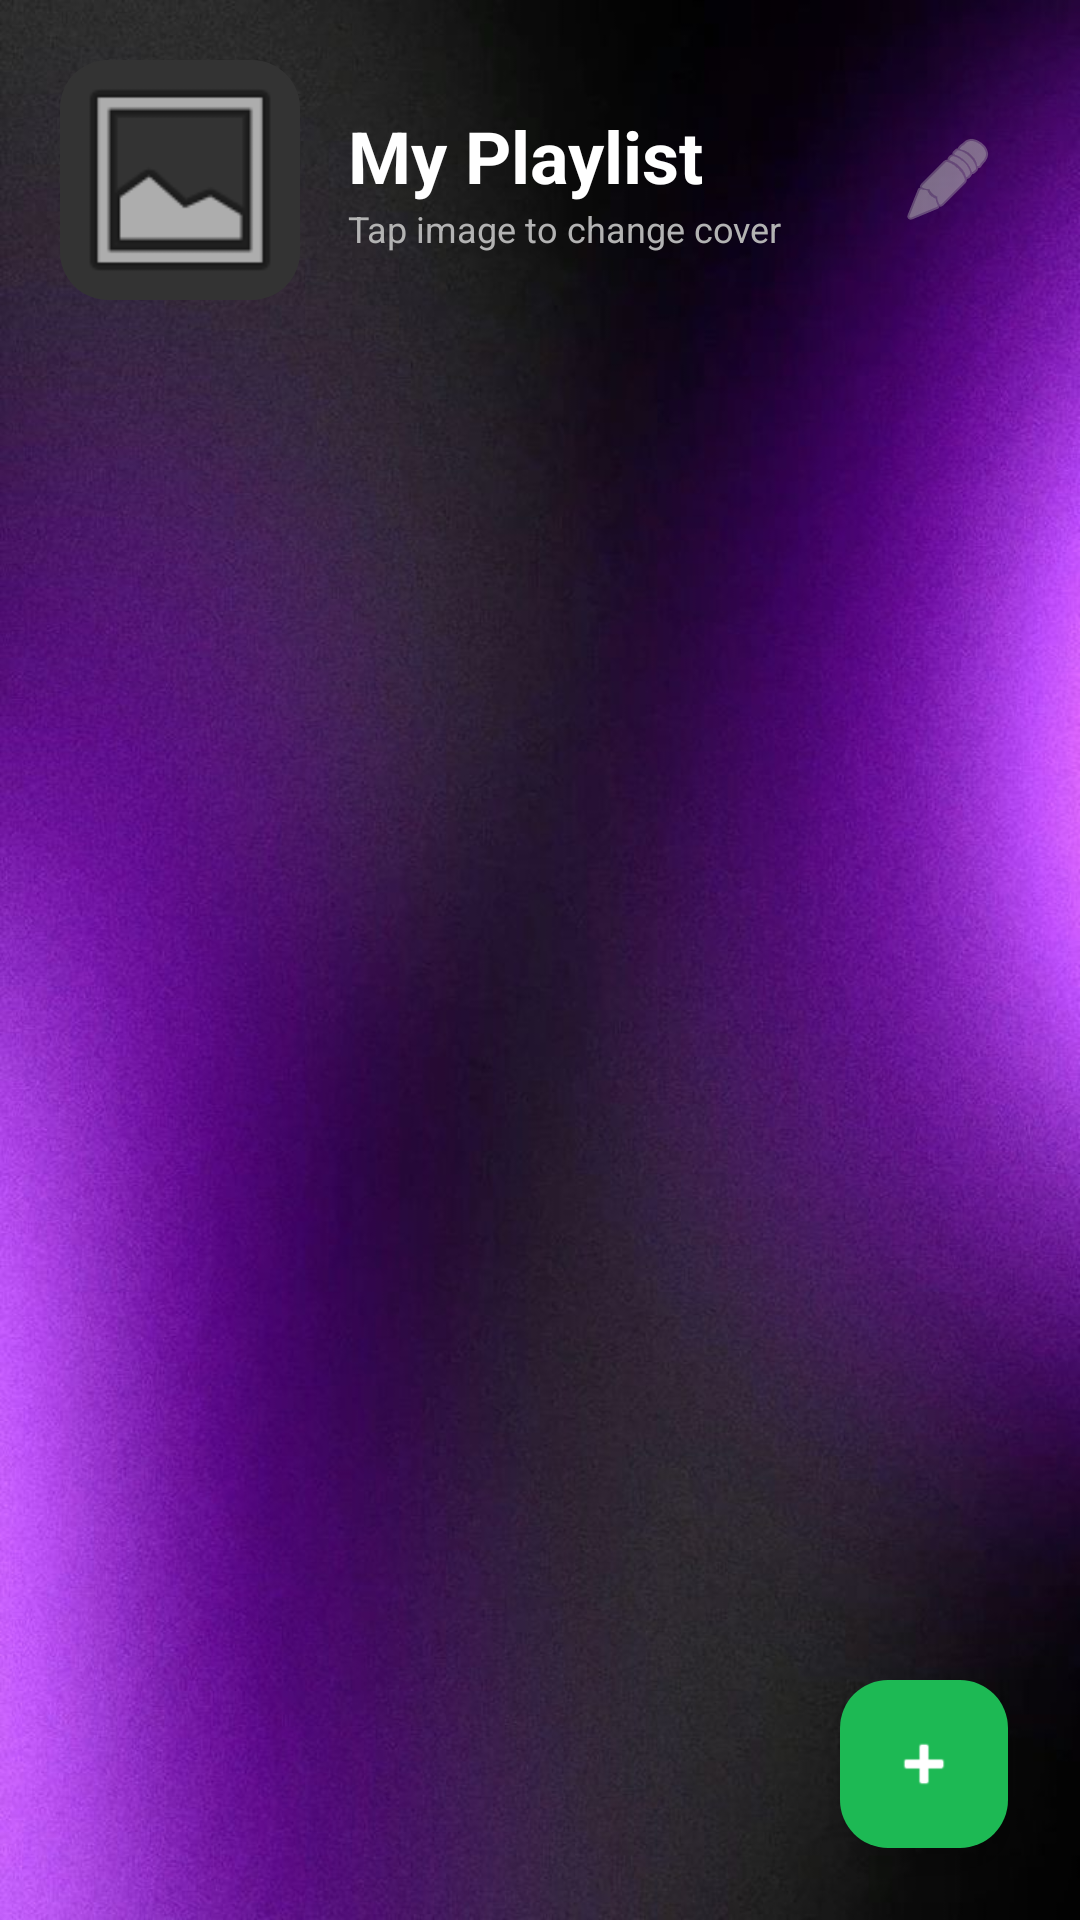

Icon click points for this 1080px x 1920px phone screenshot, format point (x, y):
add: point (924, 1764)
edit: point (948, 180)
gallery: point (180, 180)
